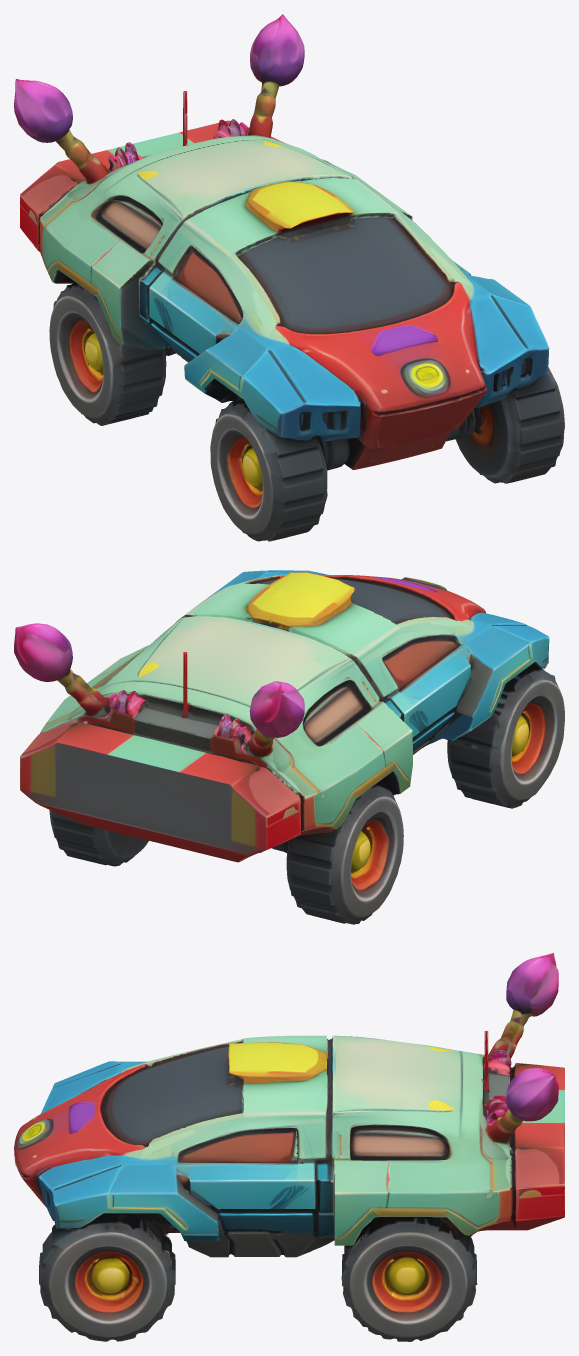
The model's file is car.glb.
3 renders of one model, top to bottom at view 1: azimuth 30°, elevation 25°; view 2: azimuth 150°, elevation 25°; view 3: azimuth 270°, elevation 25°, orthographic. The views are drawn at different scales.
Parts seen in each view (by area): view 1: model; view 2: model; view 3: model.
Boxes of the visible parts, x1,y1,x2,y2 form: model: (14, 14, 564, 541); model: (14, 570, 564, 924); model: (14, 953, 564, 1341).
Bounding box in the file's own units: 1.11 × 1.01 × 1.9.
1 material, 1 textured.
